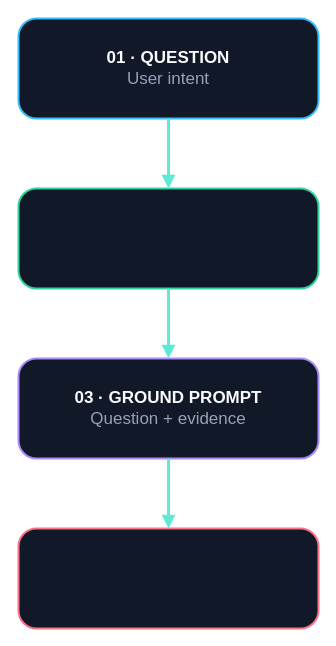
This 336x646 diagram has some shape labels left out. Each missing label, with the centre of its shape:
"02 · RETRIEVE Rank relevant evidence" goes at point (168, 238).
"04 · GENERATE Answer + citations" goes at point (168, 578).
